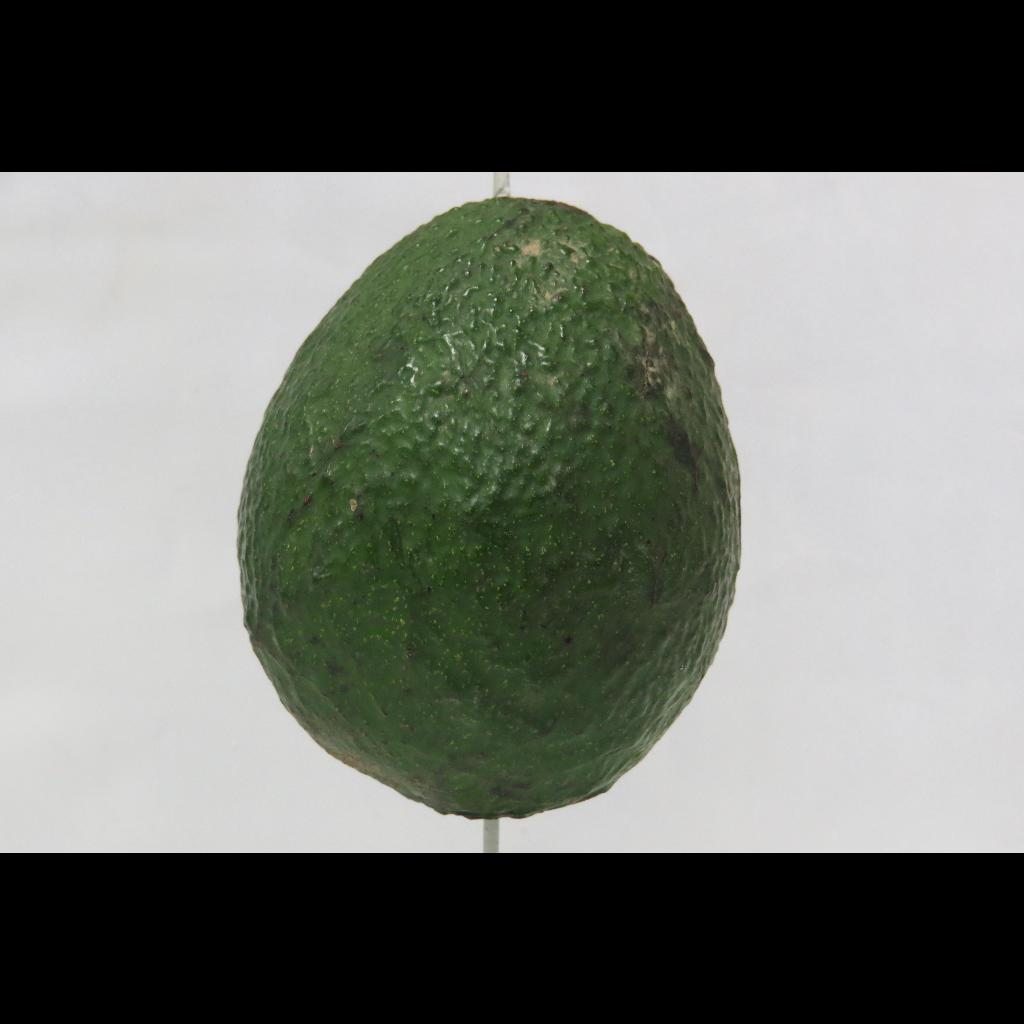fruto_sano: (196, 187, 802, 841)
